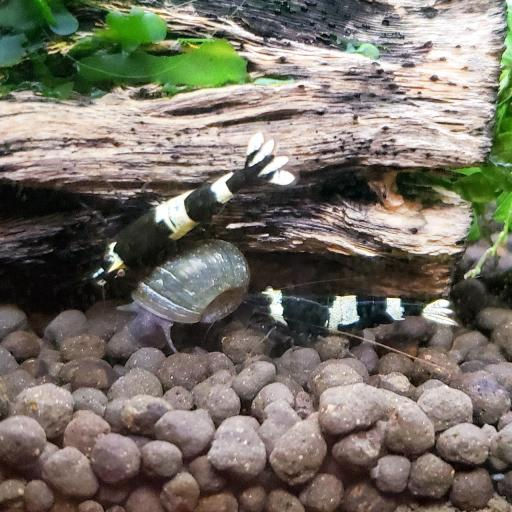Shrimp: (75, 138, 301, 288), (254, 276, 470, 368)
Snail: (112, 242, 252, 352)
